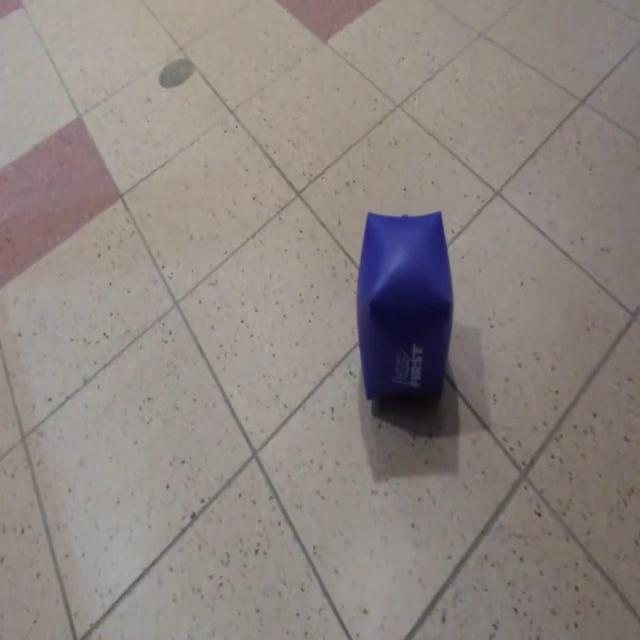frc_cube: (357, 211, 455, 406)
